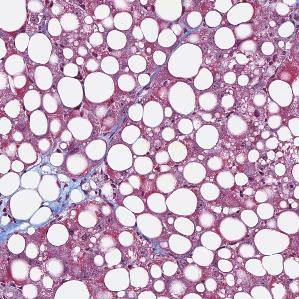fibrosis: (53, 178, 105, 218)
